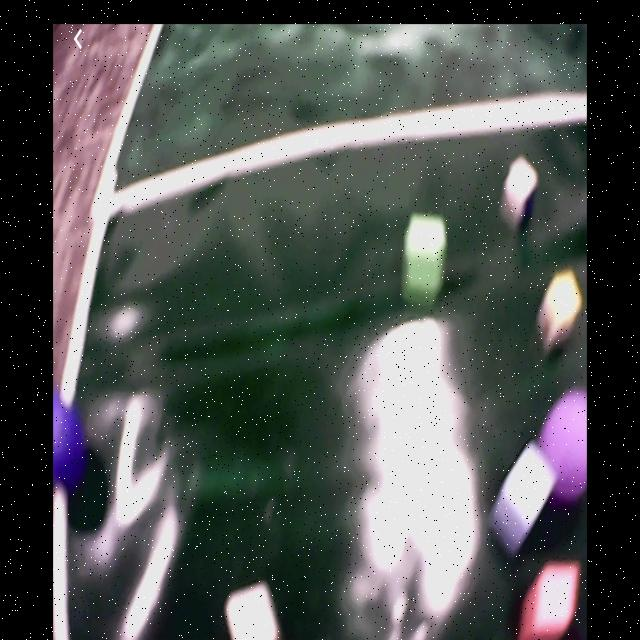ball: (538, 388, 588, 503), (55, 398, 84, 495)
